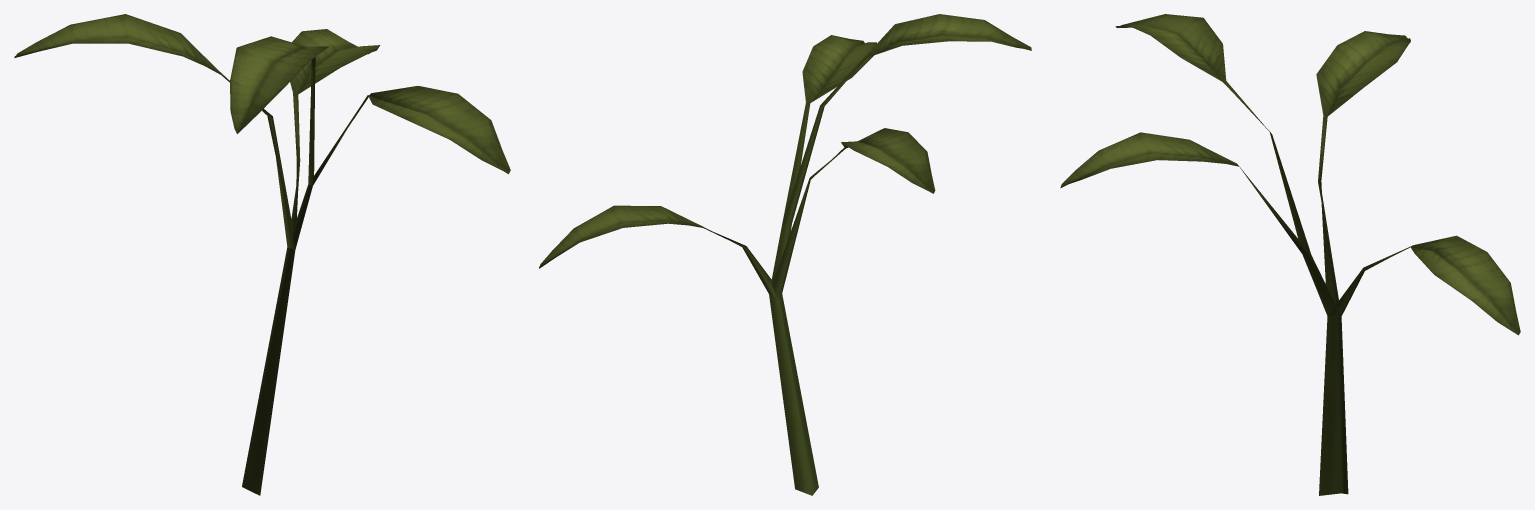
Rendered from 001KusaM03.fbx.
3 renders of one model, left to right at view 1: azimuth 30°, elevation 25°; view 2: azimuth 150°, elevation 25°; view 3: azimuth 270°, elevation 25°, orthographic. The views are drawn at different scales.
Visible parts, largest first — view 1: KusaM03; view 2: KusaM03; view 3: KusaM03.
Boxes of the visible parts, x1,y1,x2,y2 form: KusaM03: (14, 14, 510, 495); KusaM03: (539, 14, 1031, 495); KusaM03: (1060, 14, 1520, 495).
Bounding box in the file's own units: 24.3 × 28.73 × 27.23.
Materials: 1 (1 with a texture image).
